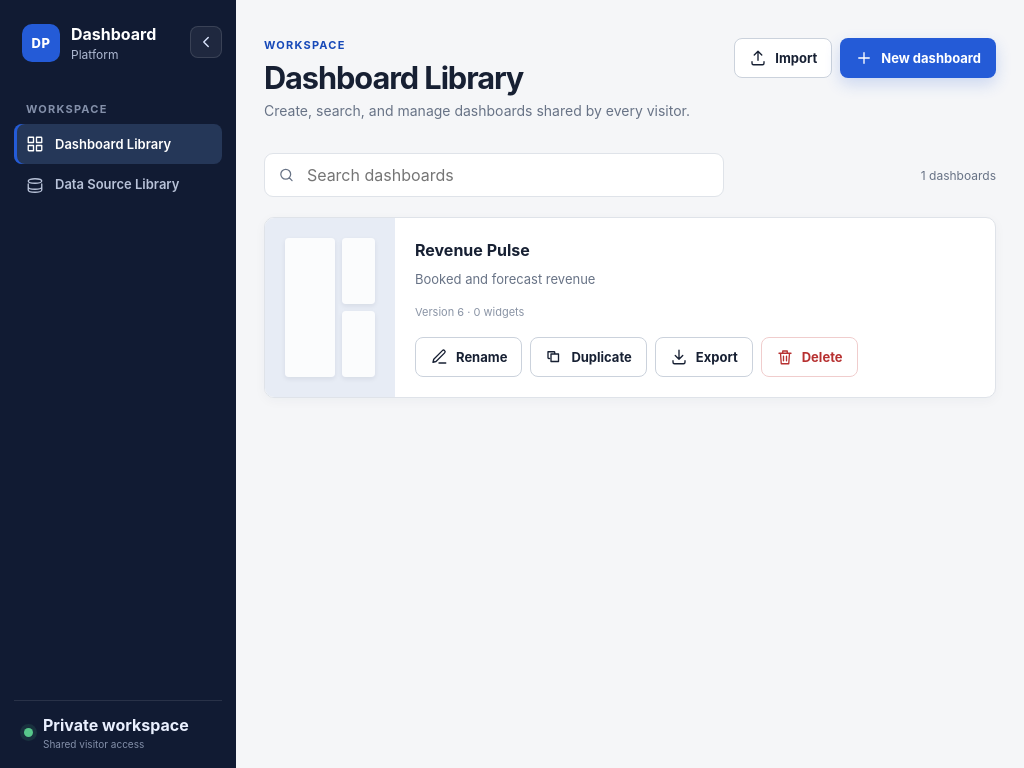
Test case: DashboardLibrary › shows a dismissible notice when an unexpected mutation failure occurs
Expected: the heading "Revenue Pulse" is shown, [415,240,530,260]
Step 1. Click the button "Duplicate" → [589, 357], box [530,337,647,377]
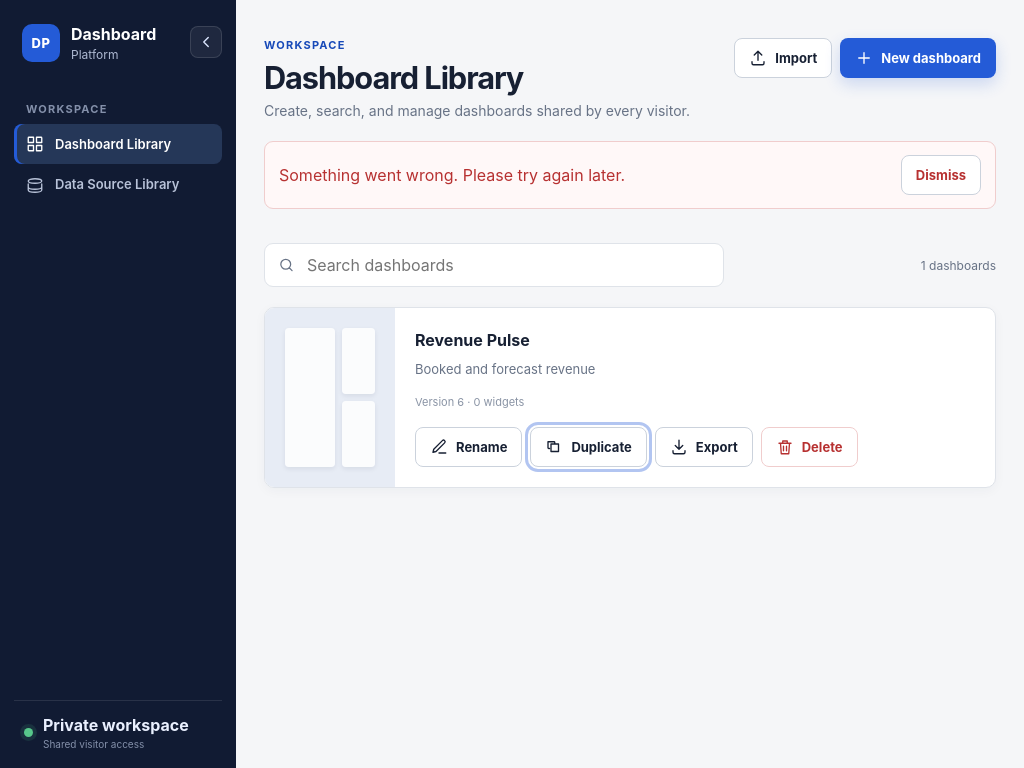
Now the message shows "Something went wrong", box [279,165,625,185]
Step 2. Click the button "Dismiss" → [941, 175], box [901,155,981,195]
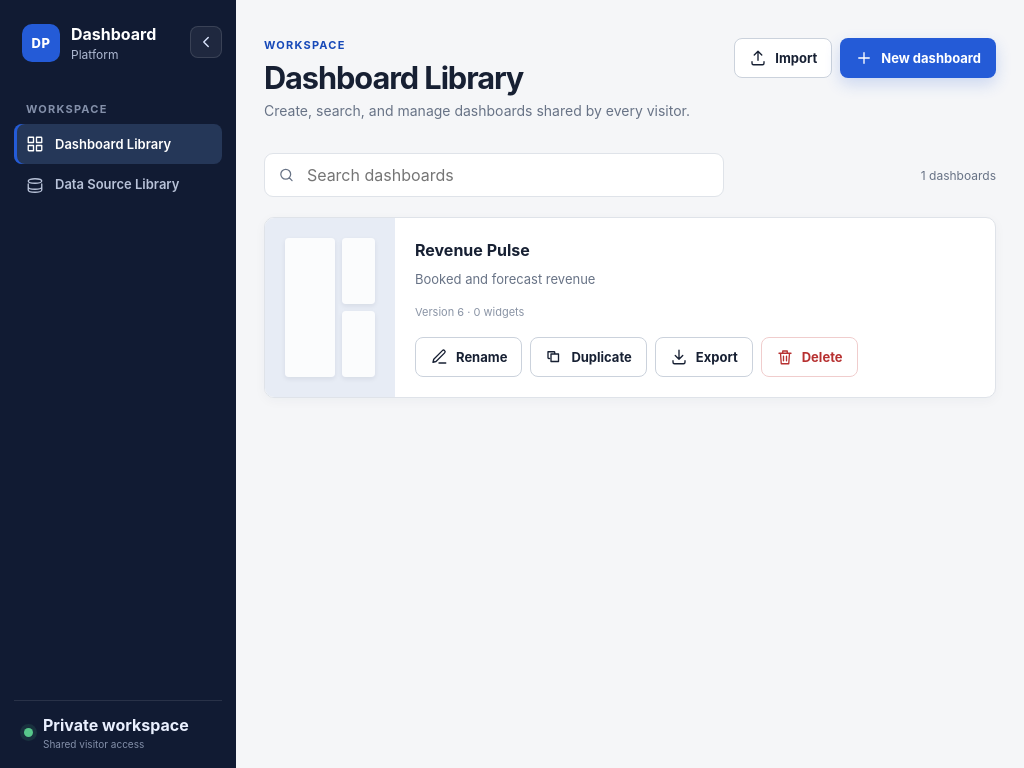
Now the message "Something went wrong. Please try again later. Dismiss" is gone
